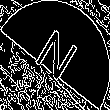N_SW: (29, 23, 81, 87)
